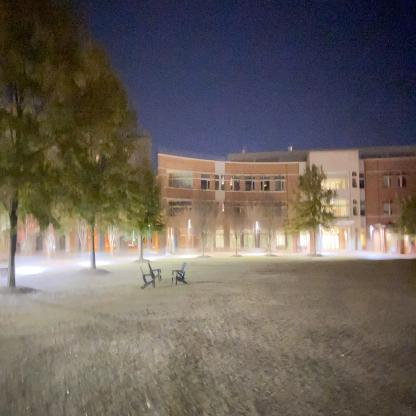eb2: (153, 135, 415, 258)
